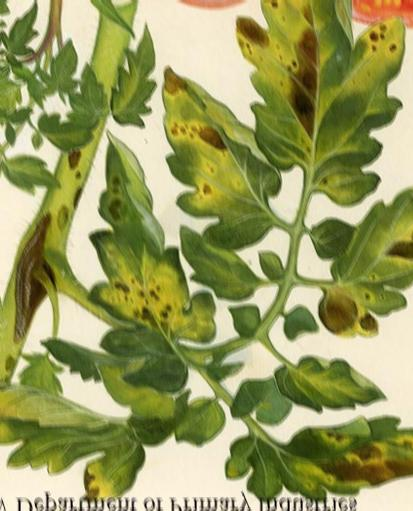Tomato Early blight leaf: (261, 0, 413, 198), (89, 143, 188, 375), (159, 74, 274, 247), (299, 177, 413, 350), (0, 369, 139, 508), (237, 422, 413, 506)
